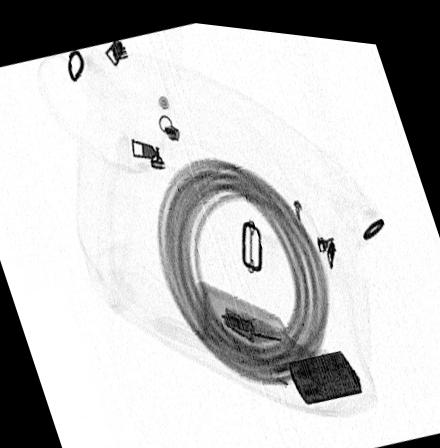Lighter: (288, 342, 361, 397)
